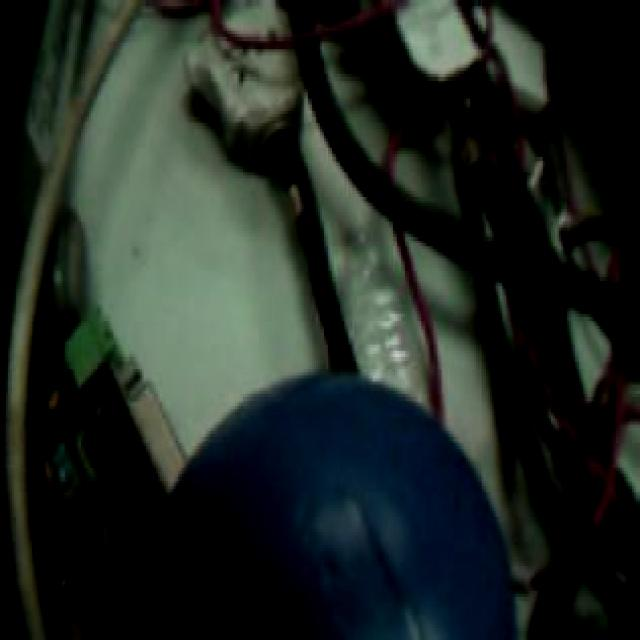BallPurple: (161, 369, 518, 640)
